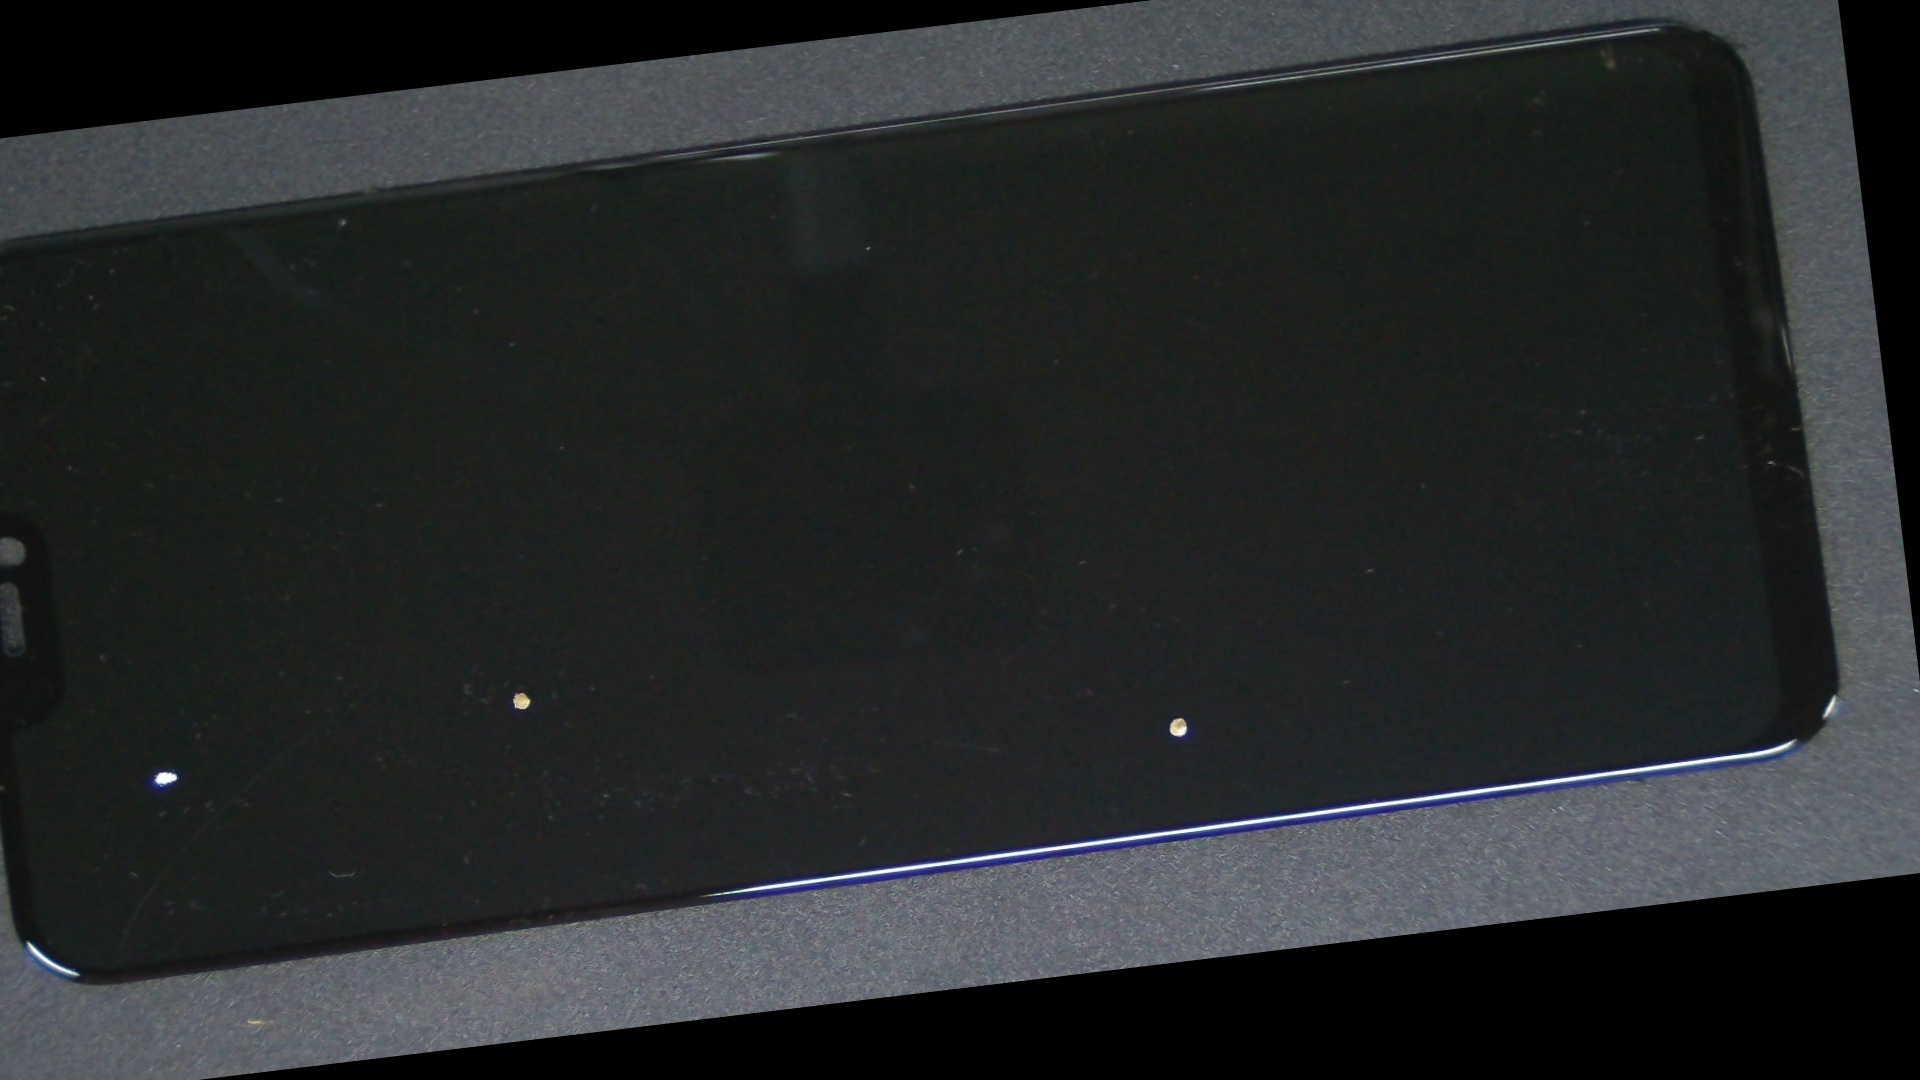oil: (520, 286, 1828, 1033), (186, 352, 841, 1027), (12, 434, 318, 1080)
